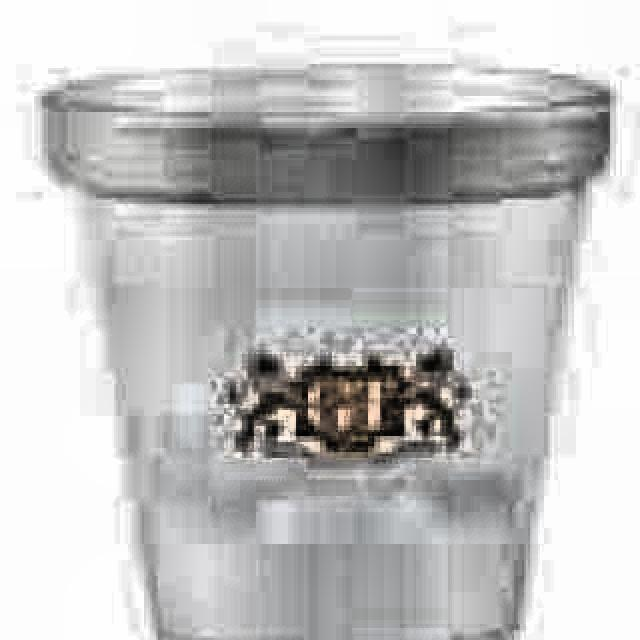paper: (36, 68, 598, 640)
